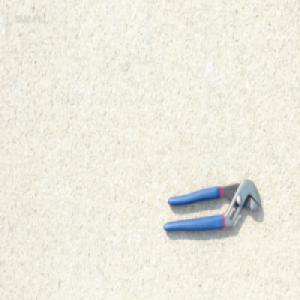Pliers: (162, 177, 262, 235)
